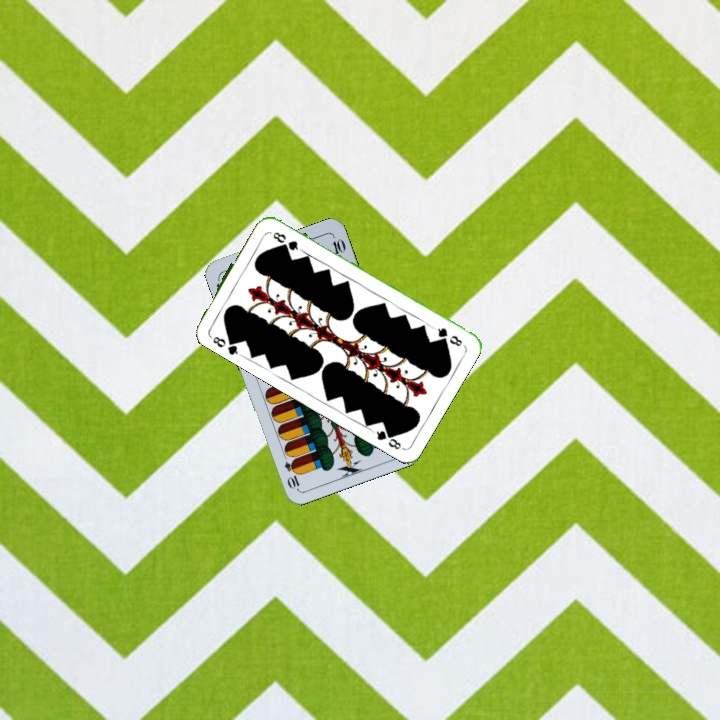G8: (205, 331, 241, 358), (429, 323, 465, 349)
